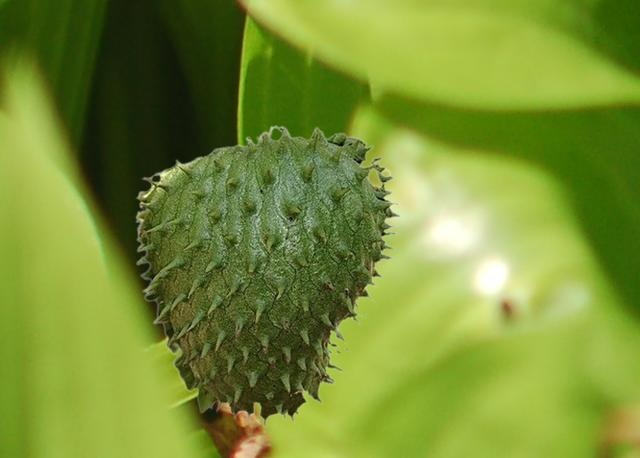guyabano: (135, 124, 401, 428)
